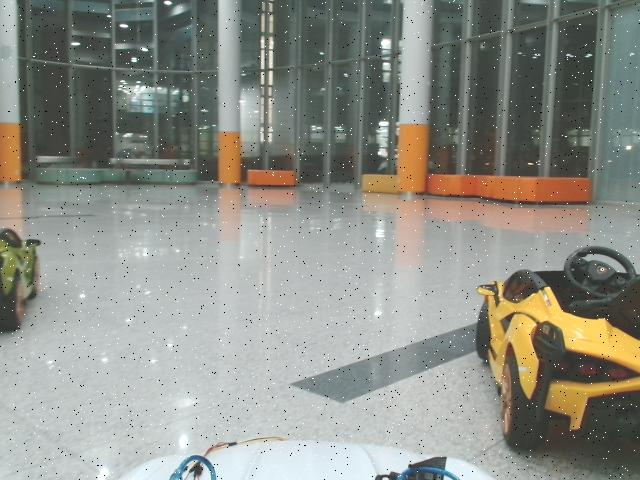car: (476, 247, 640, 450)
